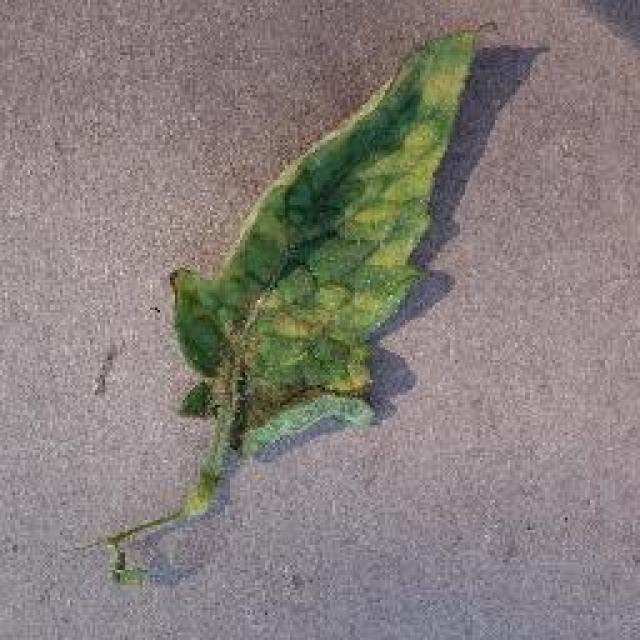Tomato mold leaf: (166, 23, 478, 444)
